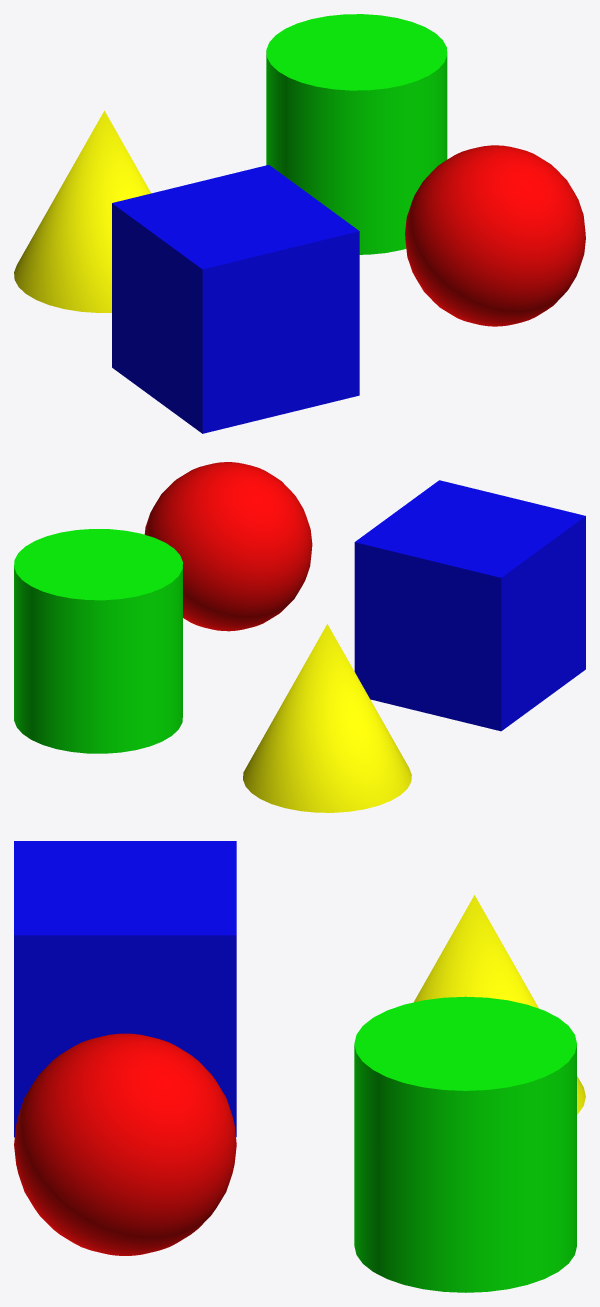
Rendered from SubMeshes.fbx.
The picture shows the model from 3 angles, top to bottom: view 1: azimuth 30°, elevation 25°; view 2: azimuth 150°, elevation 25°; view 3: azimuth 270°, elevation 25°; orthographic projection. The views are drawn at different scales.
Parts seen in each view (by area): view 1: SubObjects; view 2: SubObjects; view 3: SubObjects.
Part boxes in pixels (left/top/right/bottom): SubObjects: left=14, top=14, right=585, bottom=433; SubObjects: left=14, top=462, right=585, bottom=812; SubObjects: left=14, top=841, right=585, bottom=1292.
Size of the model in its own units: 531 by 200 by 514.
